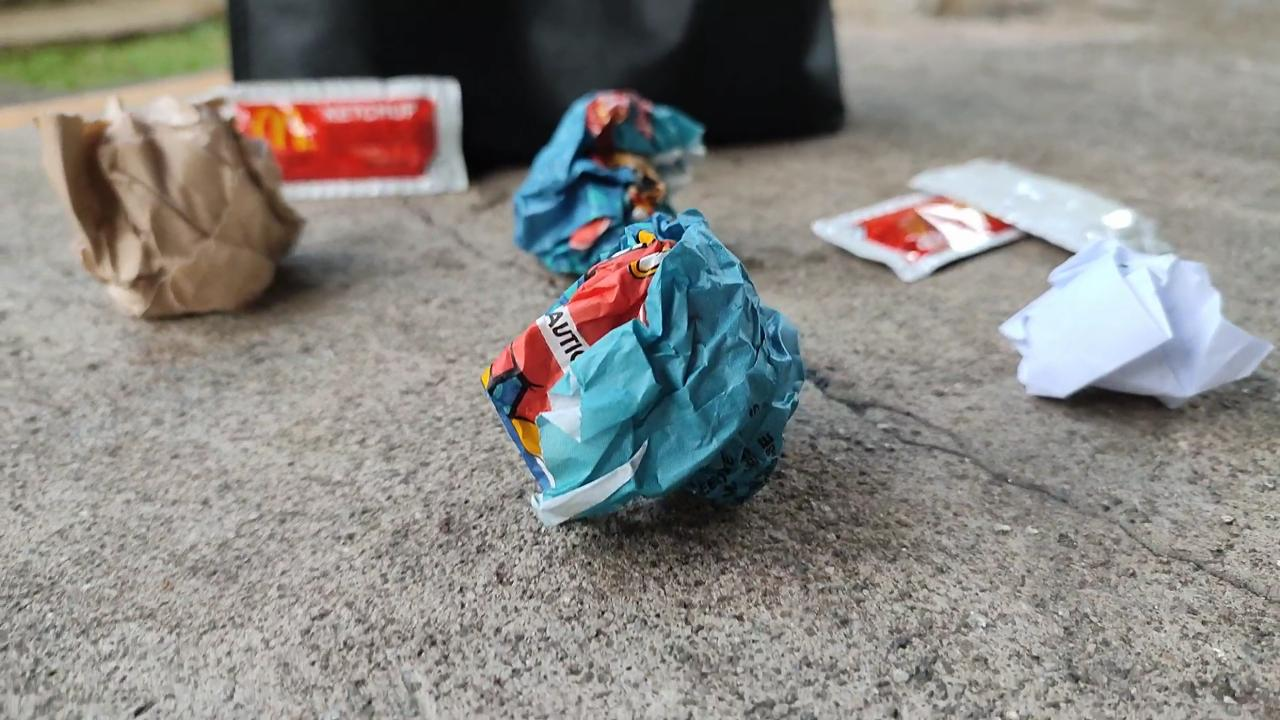paper: (482, 207, 804, 524), (40, 98, 300, 316), (1000, 240, 1271, 405), (514, 90, 703, 275)
